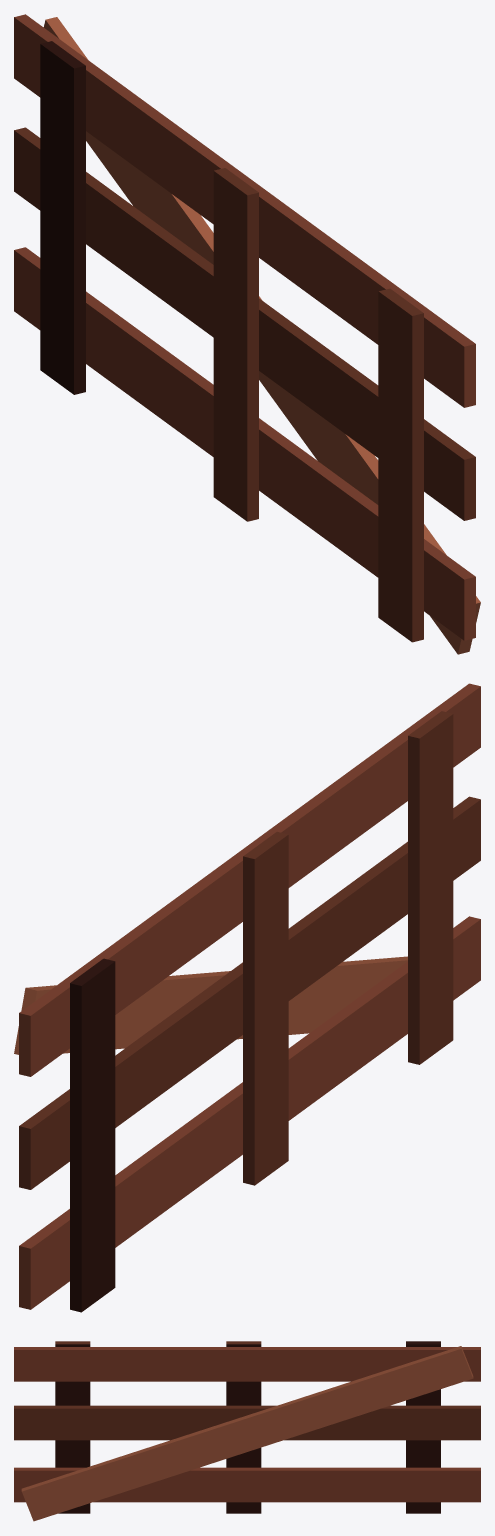
The model's file is SM_Barriers_17.fbx.
3 views of the same model, one above another, from view 1: azimuth 30°, elevation 25°; view 2: azimuth 150°, elevation 25°; view 3: azimuth 270°, elevation 25° (orthographic). The views are drawn at different scales.
Parts seen in each view (by area): view 1: SM_Barriers_17; view 2: SM_Barriers_17; view 3: SM_Barriers_17.
Part boxes in pixels (x1,y1,x2,y2): SM_Barriers_17: (14,14,480,654); SM_Barriers_17: (14,683,480,1312); SM_Barriers_17: (14,1341,480,1521).
Bounding box in the file's own units: 9.36 × 81.63 × 200.
